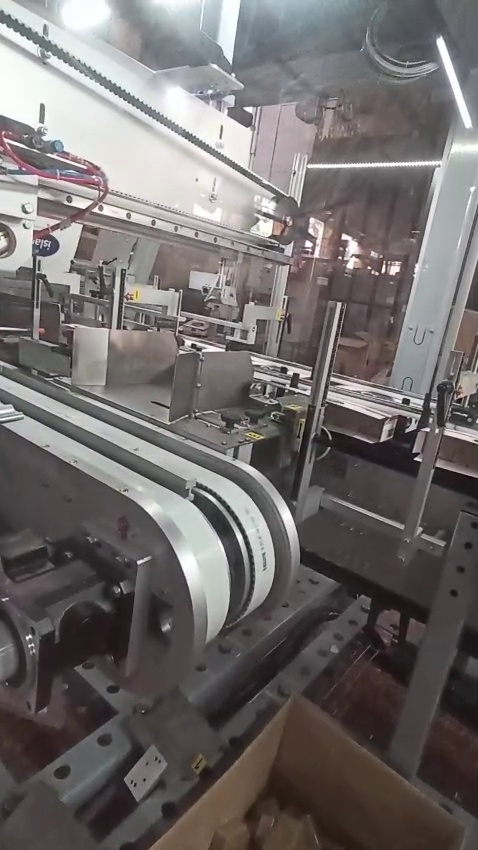savon: (149, 698, 463, 850), (285, 403, 312, 432), (188, 752, 214, 780), (244, 429, 265, 446), (379, 340, 396, 356), (129, 288, 141, 304)
